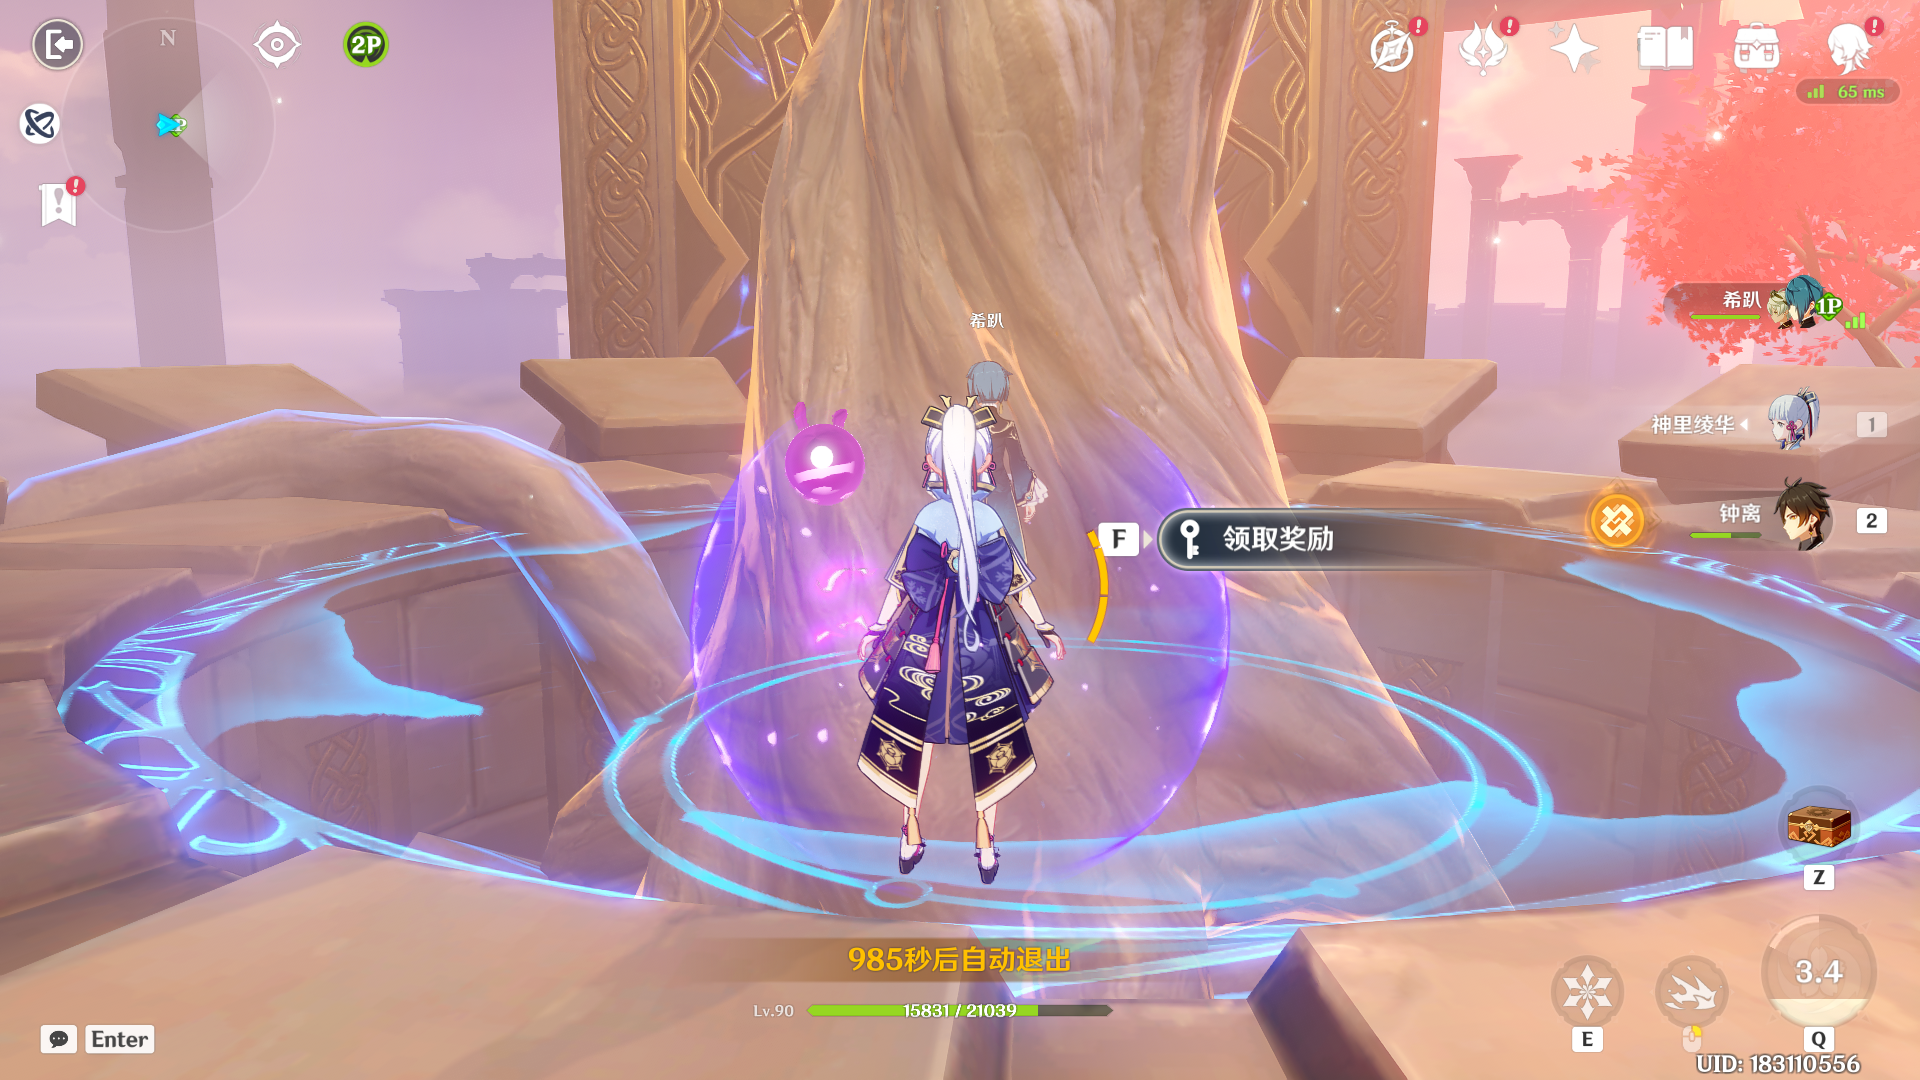character: (840, 398, 1072, 899)
